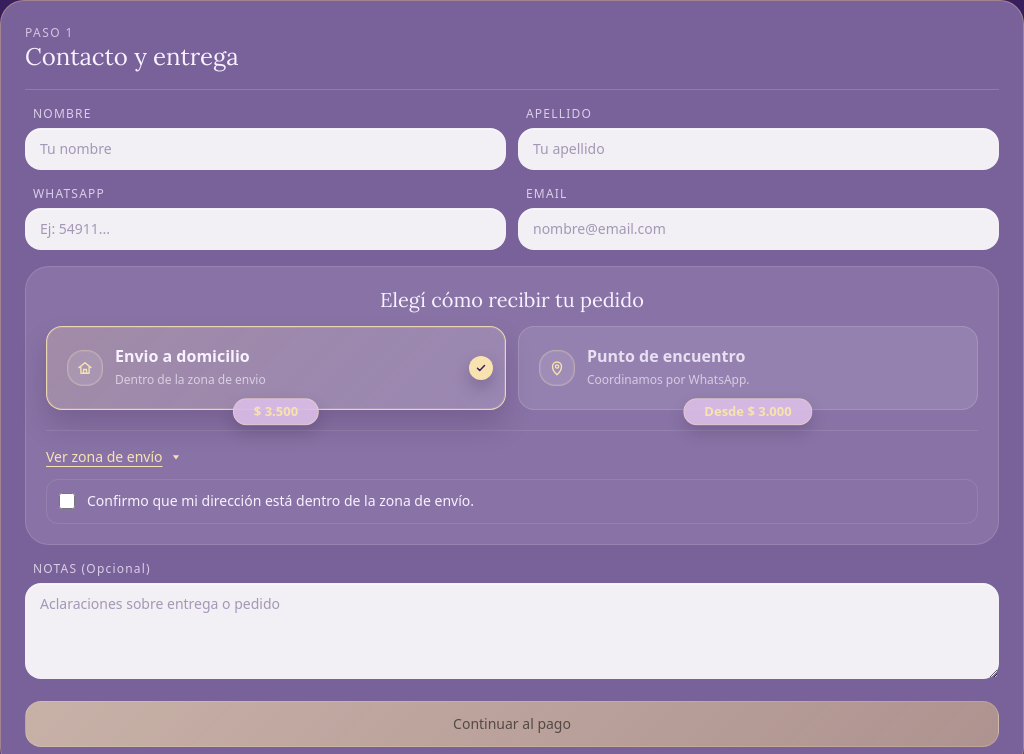
Test: CheckoutSteps Auto-Advance › keeps delivery checkout blocked until address details are complete
This screenshot has width=1024, height=754.
Type "Jane" into the field labelled "Nombre" at (266, 149), box top-left (25, 128), bottom-right (506, 170)
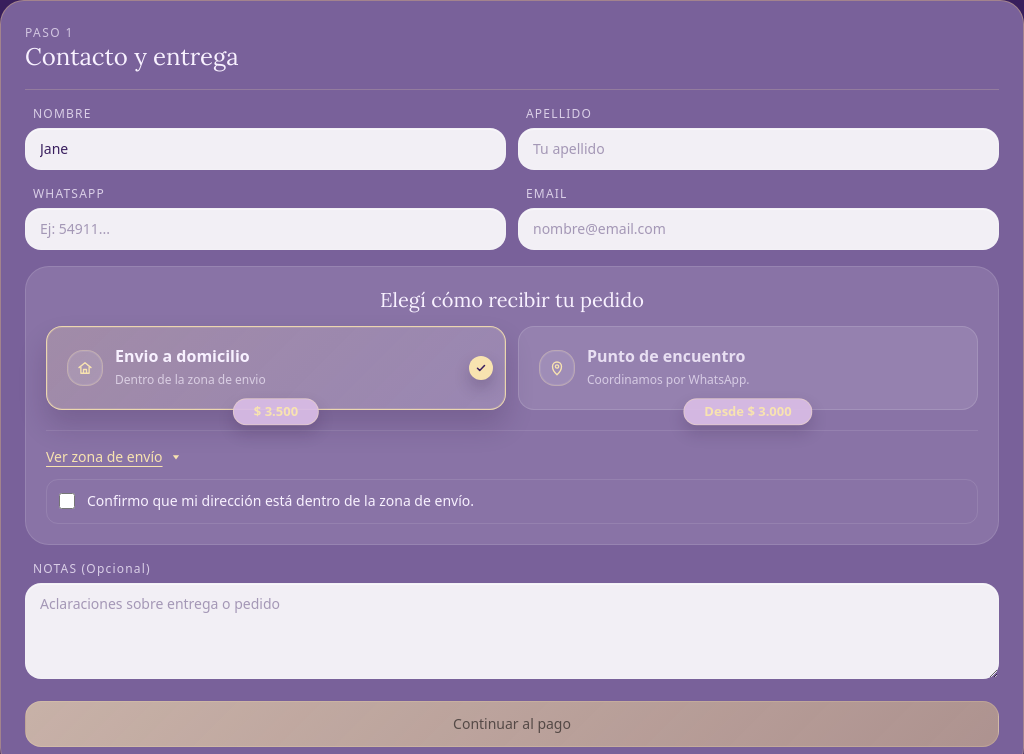
Type "Smith" into the field labelled "Apellido" at (758, 149), box top-left (518, 128), bottom-right (999, 170)
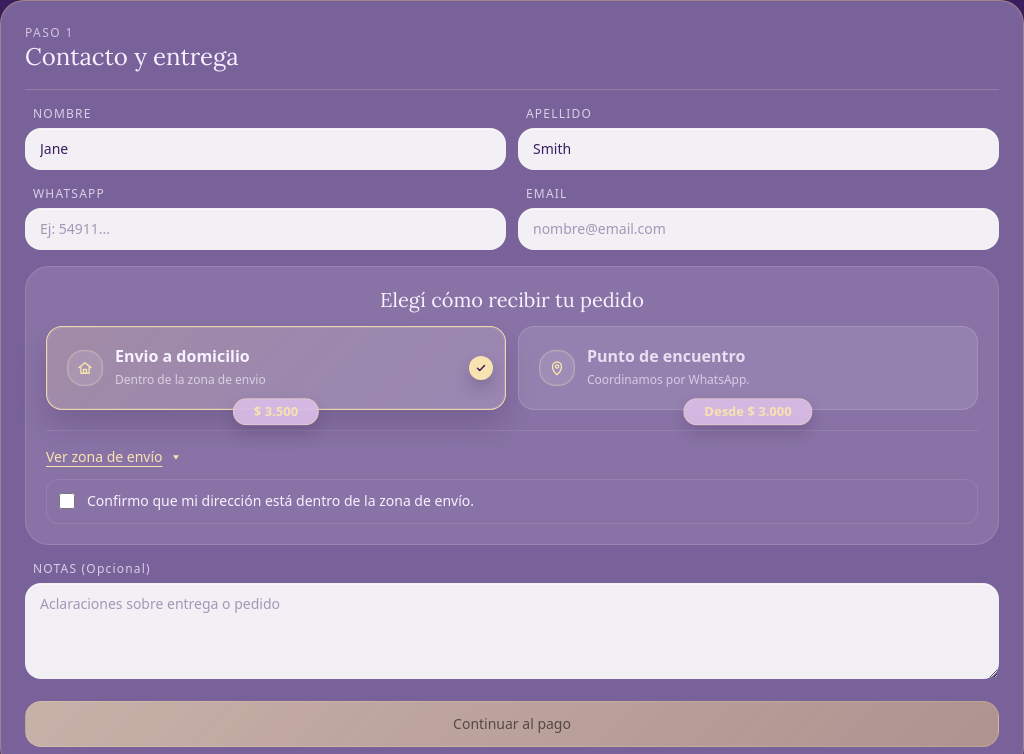
Type "5491198765432" into the field labelled "WhatsApp" at (266, 229), box top-left (25, 208), bottom-right (506, 250)
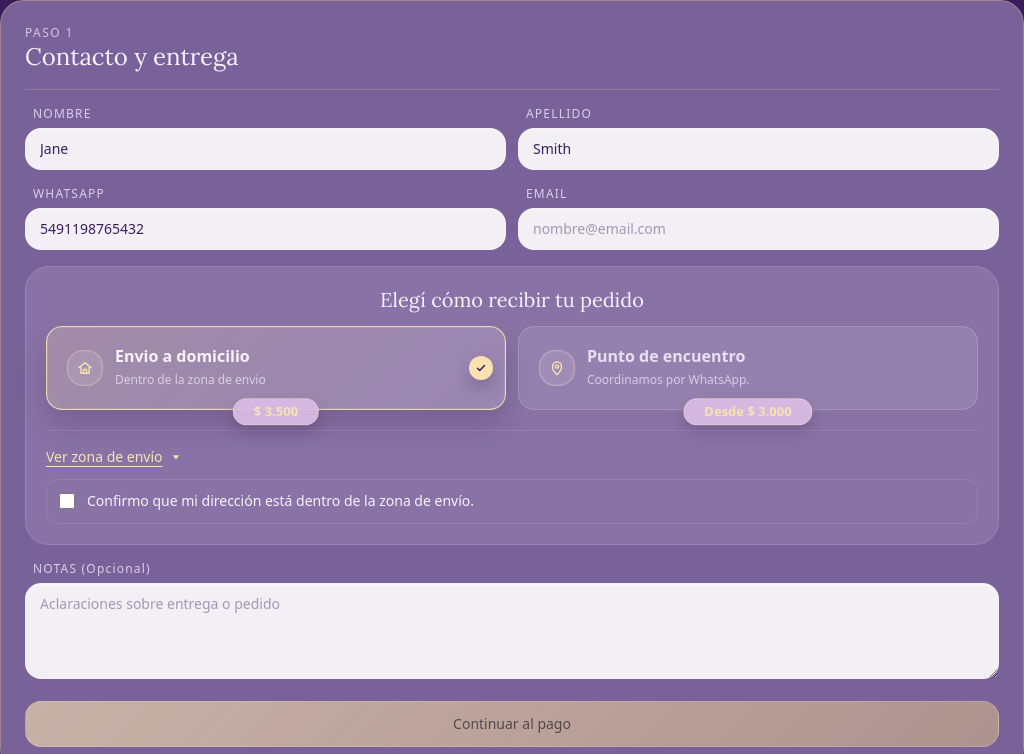
Type "jane@example.com" into the field labelled "Email" at (758, 229), box top-left (518, 208), bottom-right (999, 250)
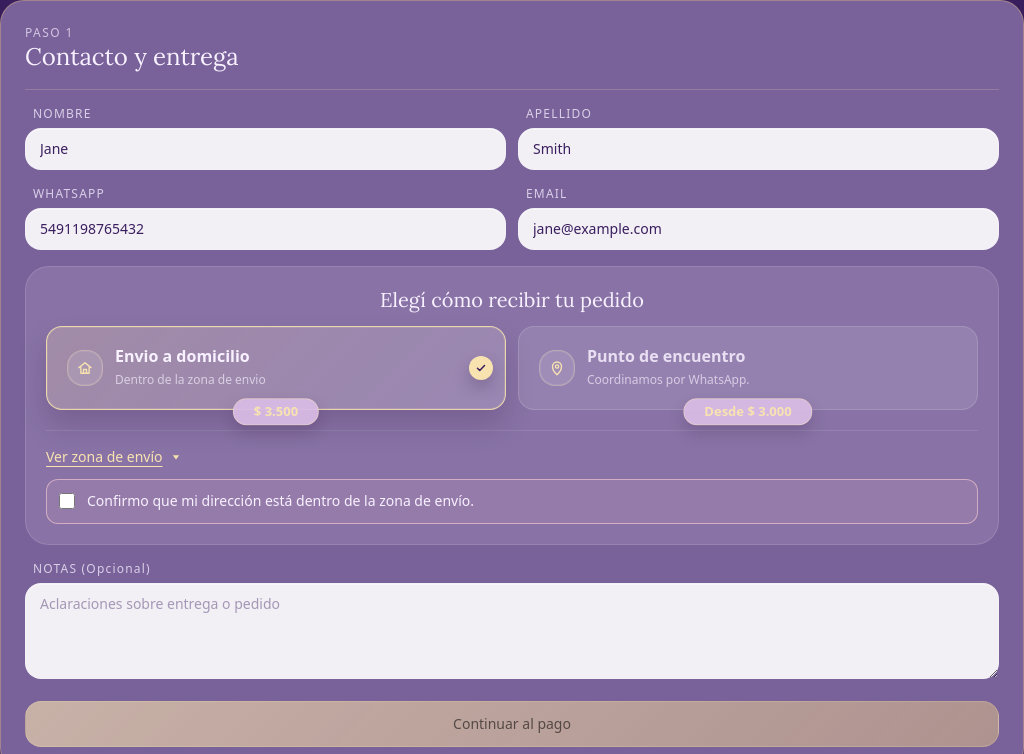
Expected: the button "Continuar al pago" is disabled, top-left (25, 701), bottom-right (999, 747)
Expected: the field labelled "Calle" is not shown
Click the checkbox labelled "Confirmo que mi dirección está dentro de la zona de envío." at (67, 501), box top-left (59, 493), bottom-right (75, 509)
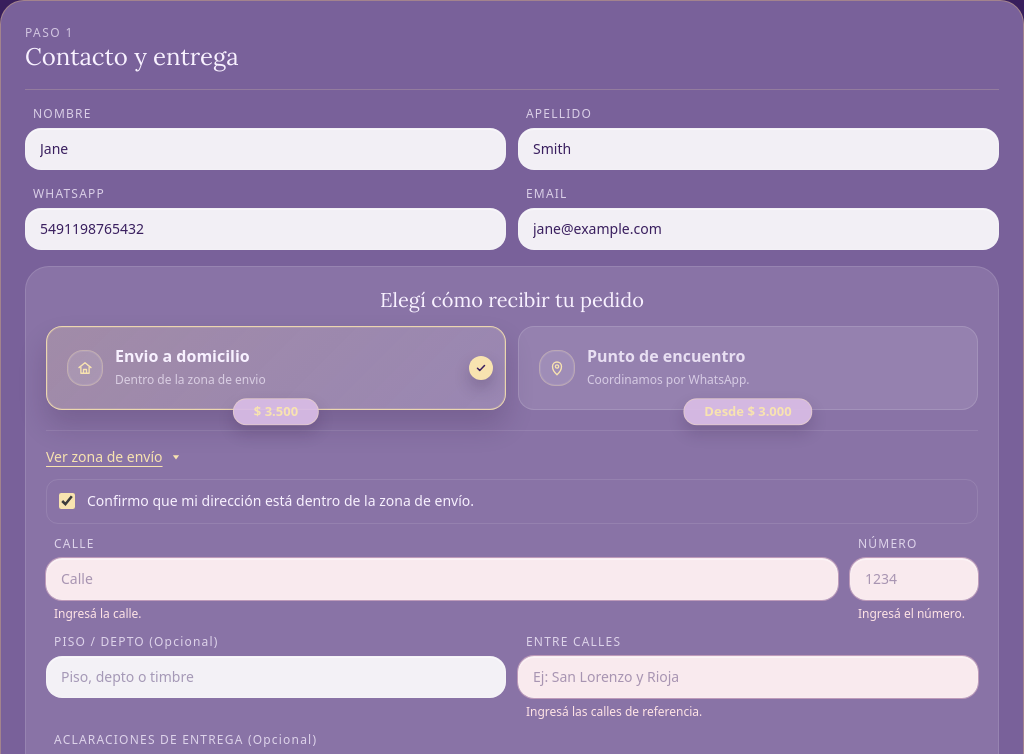
Expected: the text "Ingresá la calle." is shown, top-left (54, 605), bottom-right (142, 622)
Expected: the text "Ingresá el número." is shown, top-left (858, 605), bottom-right (965, 622)
Expected: the text "Ingresá las calles de referencia." is shown, top-left (526, 703), bottom-right (702, 720)
